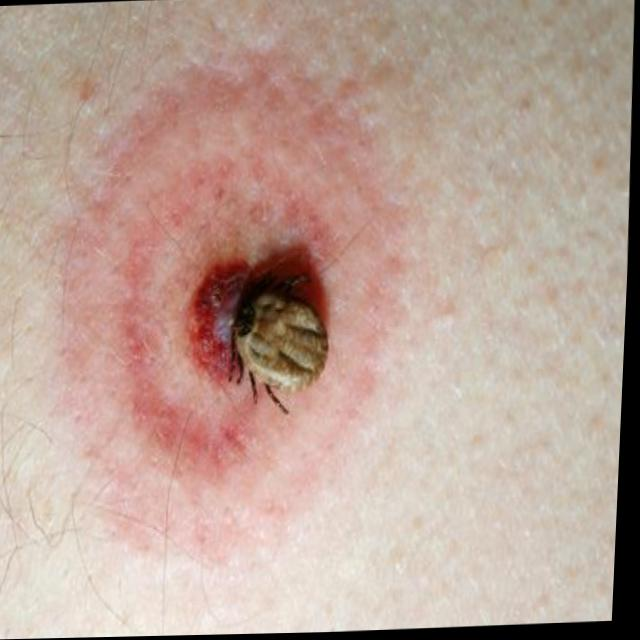Erythema migrans: (87, 149, 237, 519)
